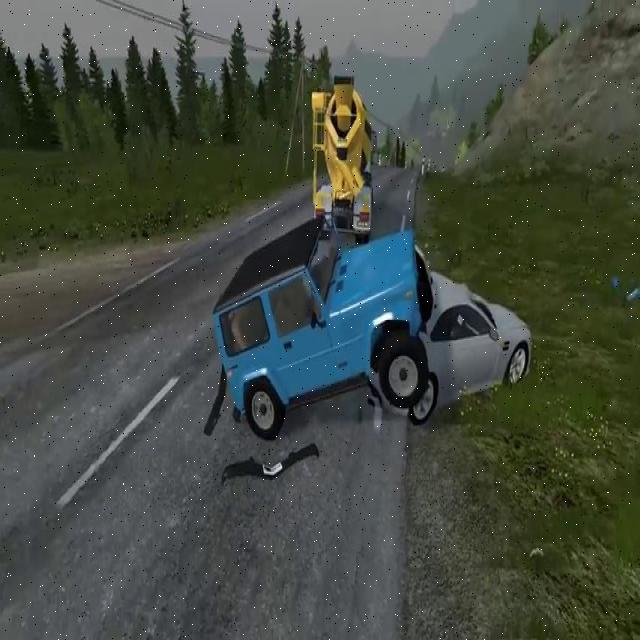severe: (207, 202, 535, 438)
